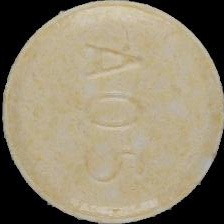0093-3011: (0, 0, 224, 224)
